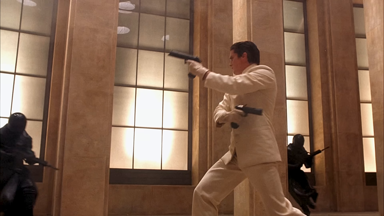firearm: (164, 47, 201, 80), (228, 103, 265, 132), (29, 156, 57, 173), (309, 145, 328, 162)
